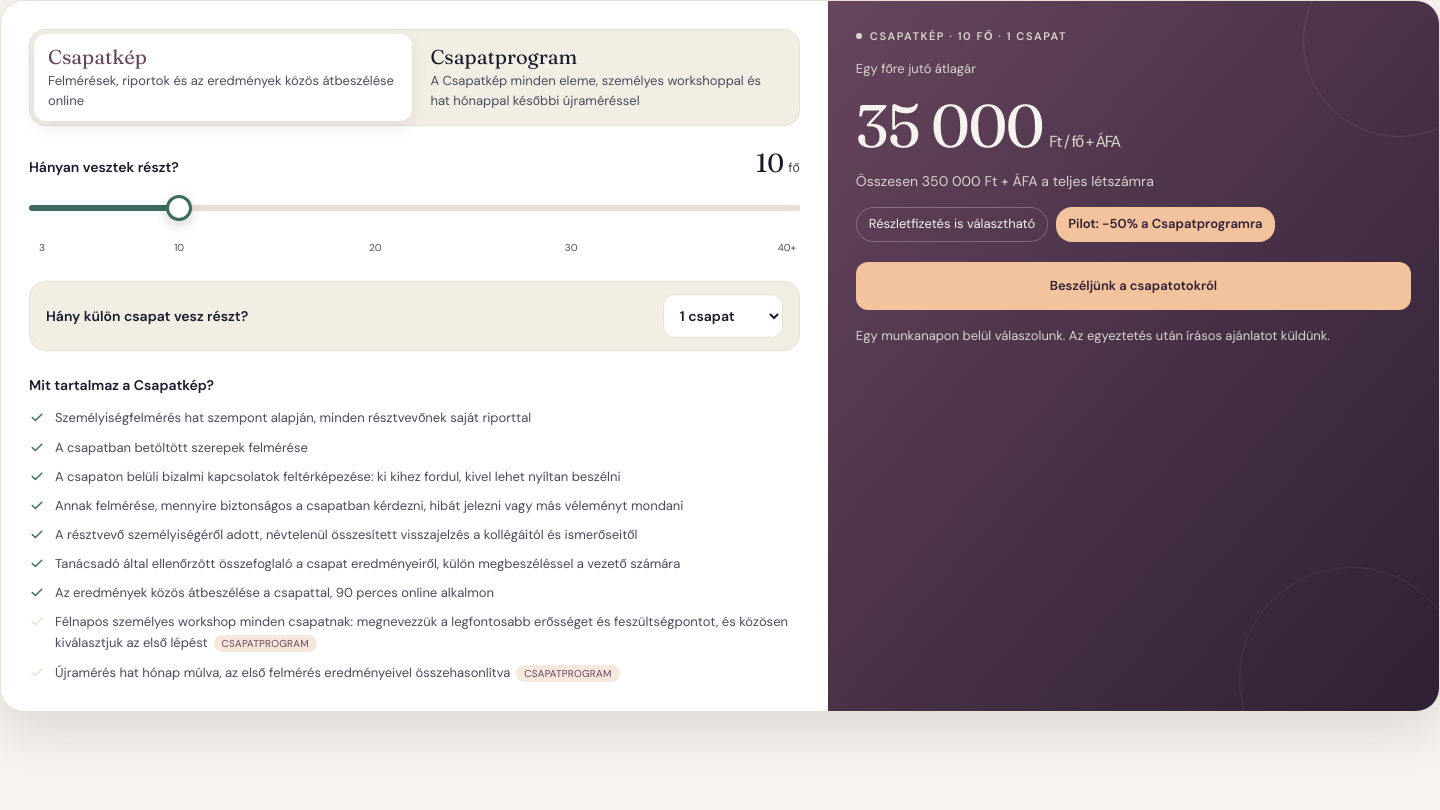
TeamPricingConfigurator › három fő is választható, öt főnél a kisebb díj fejenkénti átlagát mutatja
Set the slider to "5". click: [77, 208]
box: 29,186 -> 800,230
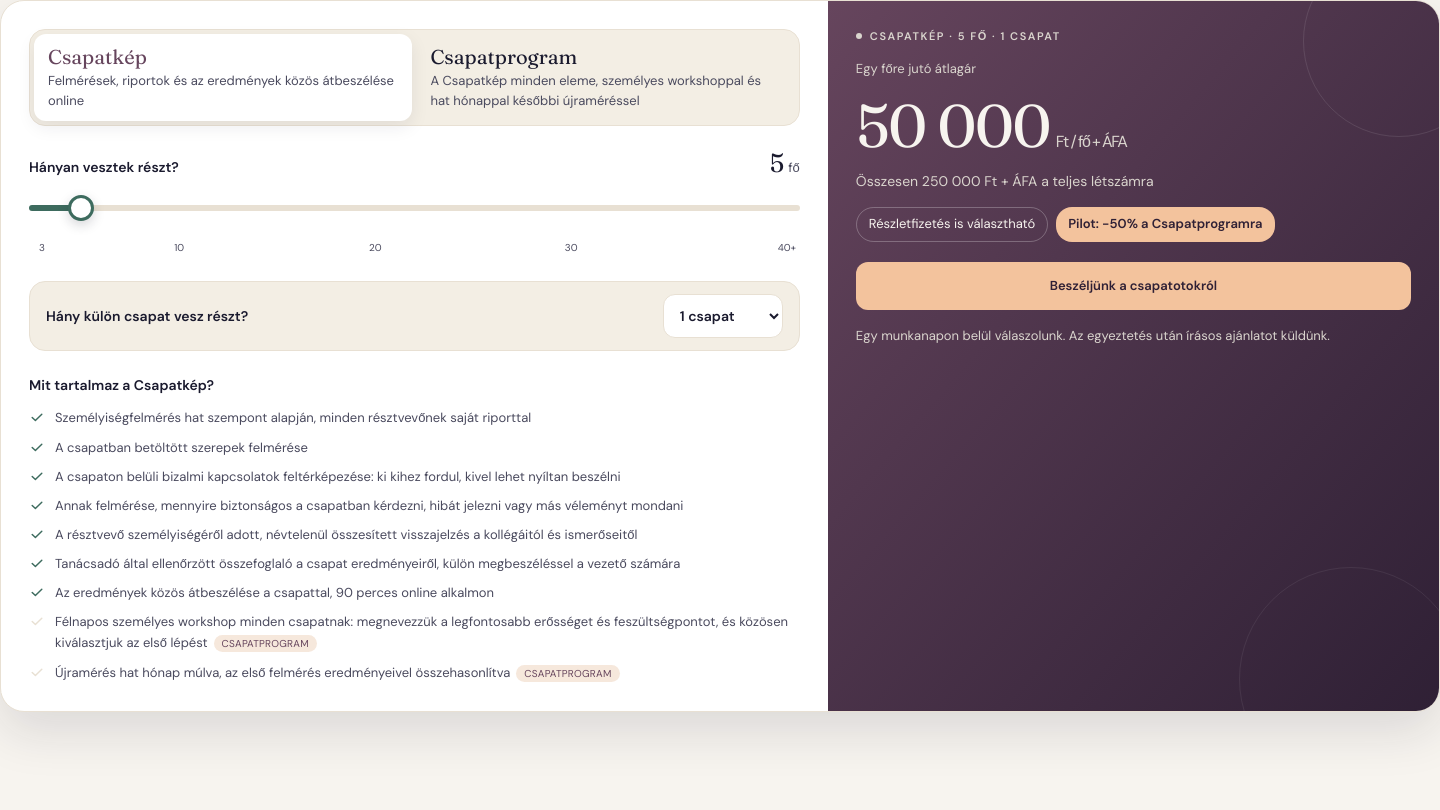
Expected: the text "50 000" is shown, 856,88 -> 1050,162
Expected: the text "Összesen 250 000 Ft + ÁFA a teljes létszámra" is shown, 856,172 -> 1154,190
Click the button "Csapatprogram". click: [606, 78]
box: 416,34 -> 795,121
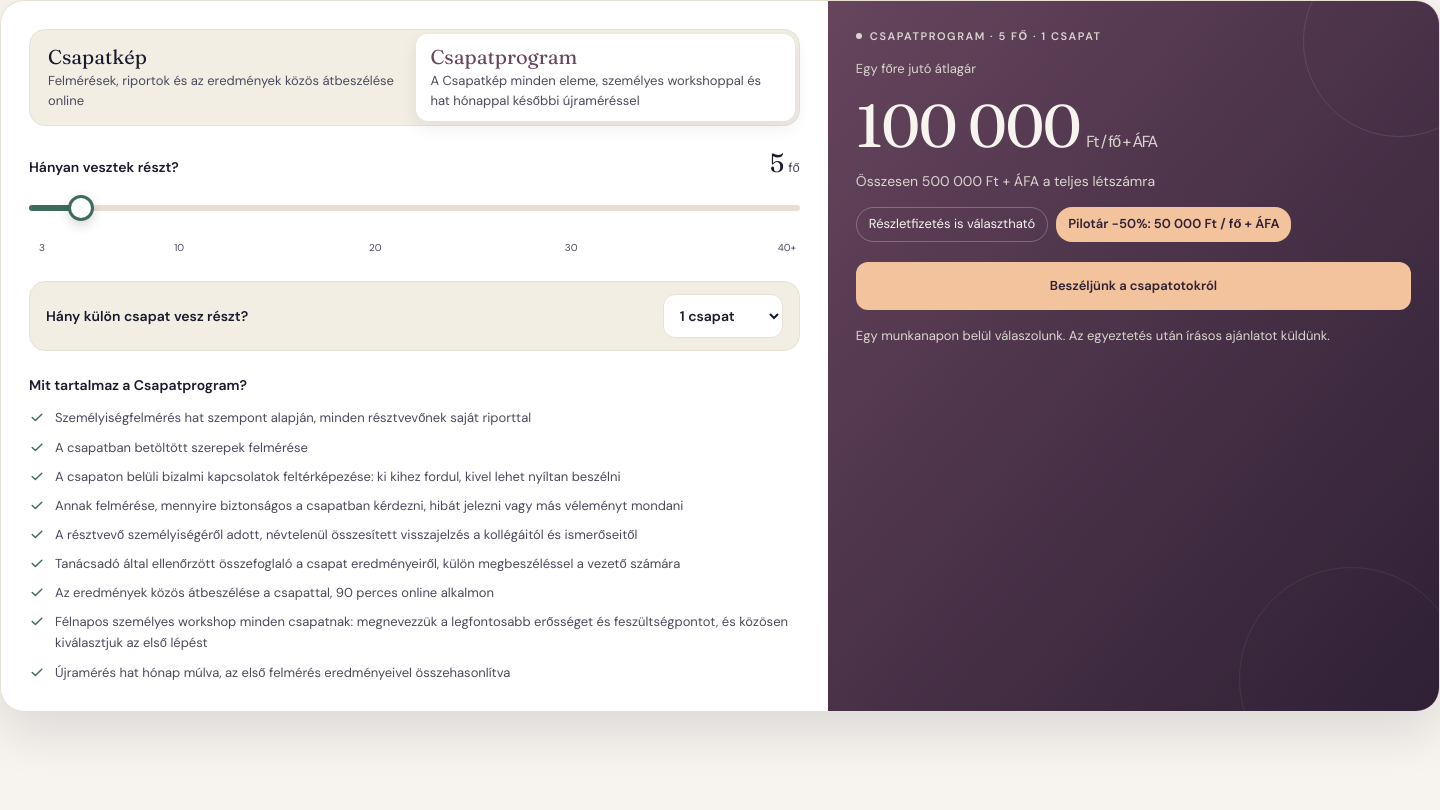
Expected: the text "100 000" is shown, 856,88 -> 1080,162
Expected: the text "Összesen 500 000 Ft + ÁFA a teljes létszámra" is shown, 856,172 -> 1155,190
